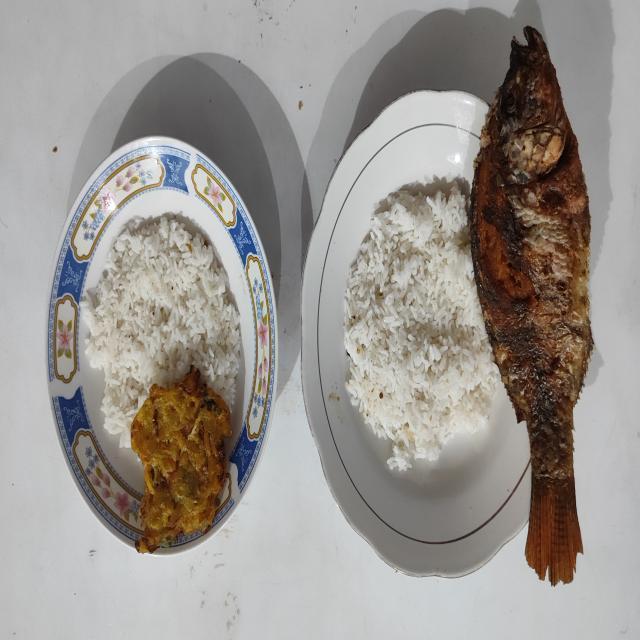ikan_mujair: (470, 26, 594, 586)
nasi_putih: (344, 178, 501, 470), (82, 213, 240, 447)
